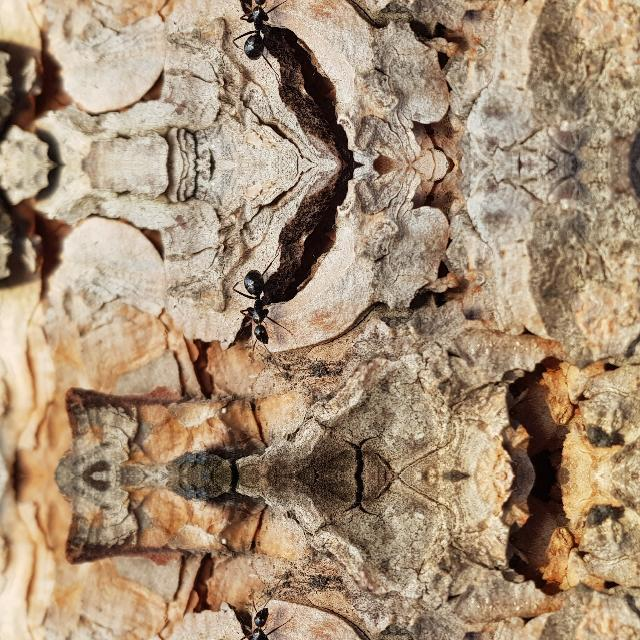Camponotus: (213, 262, 303, 351), (213, 0, 303, 66), (213, 598, 303, 640)
